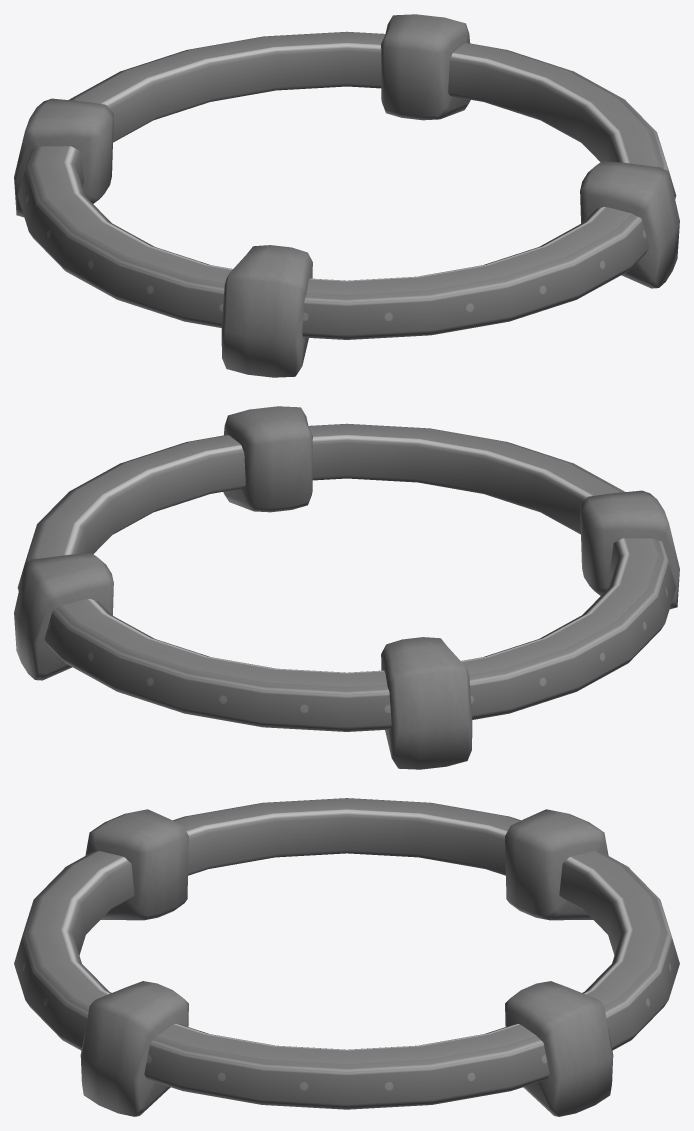
Rendered from DashRingDreamTeam.glb.
3 renders of one model, top to bottom at view 1: azimuth 30°, elevation 25°; view 2: azimuth 150°, elevation 25°; view 3: azimuth 270°, elevation 25°, orthographic.
Visible parts, largest first — view 1: DashRingDreamTeam; view 2: DashRingDreamTeam; view 3: DashRingDreamTeam.
Boxes of the visible parts, x1,y1,x2,y2 form: DashRingDreamTeam: [14, 14, 679, 377]; DashRingDreamTeam: [14, 406, 679, 769]; DashRingDreamTeam: [14, 798, 679, 1116].
Bounding box in the file's own units: 7.45 × 1.25 × 7.45.
Materials: 2 (2 with a texture image).
